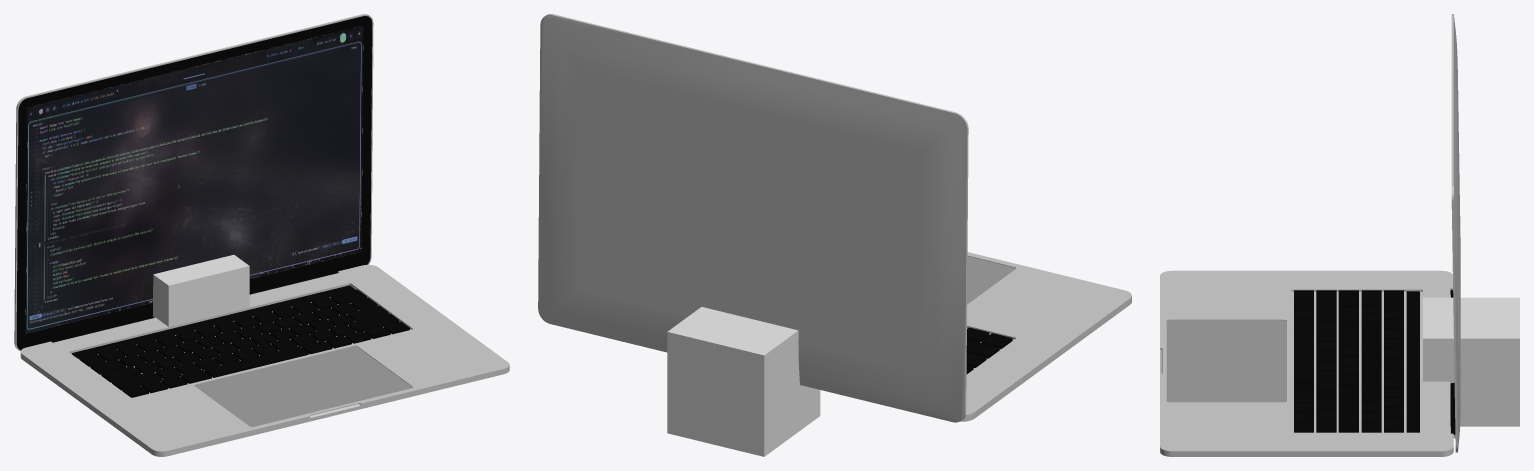
Rendered from macbook.glb.
The picture shows the model from 3 angles, left to right: view 1: azimuth 30°, elevation 25°; view 2: azimuth 150°, elevation 25°; view 3: azimuth 270°, elevation 25°; orthographic projection. The views are drawn at different scales.
Visible parts, largest first — view 1: screen, base, keyboard, Cube, touchbar; view 2: screen, Cube, base, keyboard; view 3: base, keyboard, Cube, screen, touchbar.
Boxes of the visible parts, x1,y1,x2,y2 form: screen: [14, 14, 373, 351]; base: [20, 264, 509, 456]; keyboard: [79, 289, 409, 397]; Cube: [153, 254, 249, 326]; touchbar: [71, 285, 355, 358]; screen: [538, 14, 968, 422]; Cube: [667, 307, 820, 456]; base: [960, 252, 1131, 421]; keyboard: [966, 327, 1012, 374]; base: [1160, 270, 1453, 456]; keyboard: [1294, 290, 1403, 432]; Cube: [1423, 297, 1519, 426]; screen: [1450, 14, 1460, 452]; touchbar: [1406, 291, 1419, 432].
Bounding box in the file's own units: 8.81 × 6.95 × 7.42.
7 materials, 1 textured.
